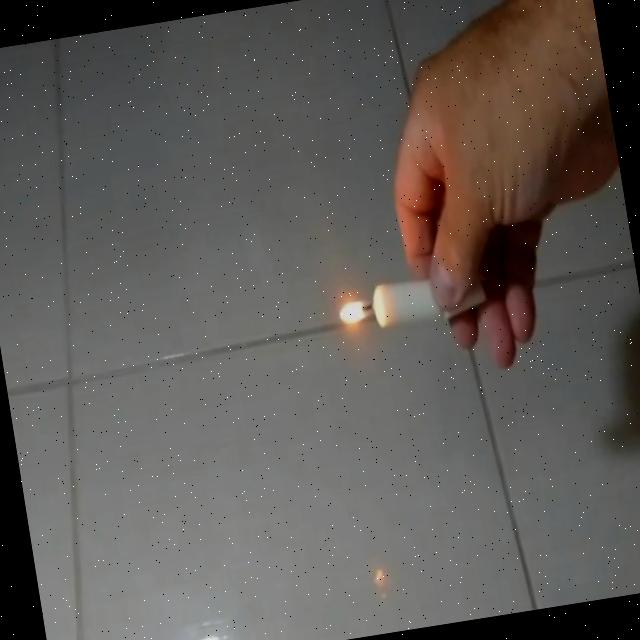fire: (334, 292, 377, 336)
